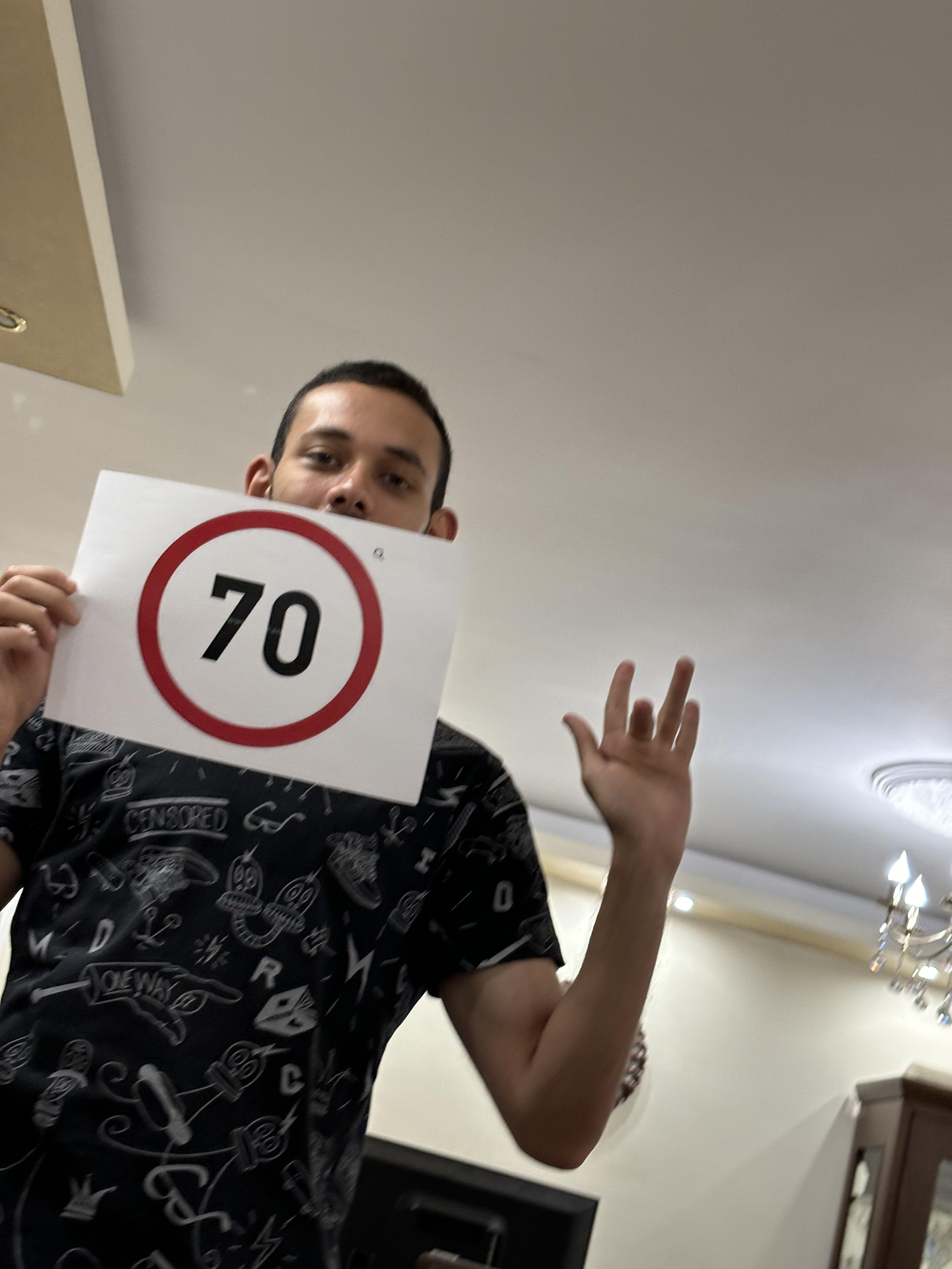70-Speed: (123, 507, 397, 757)
